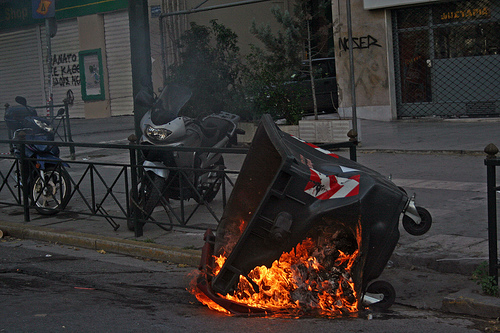fire: (193, 218, 369, 313)
